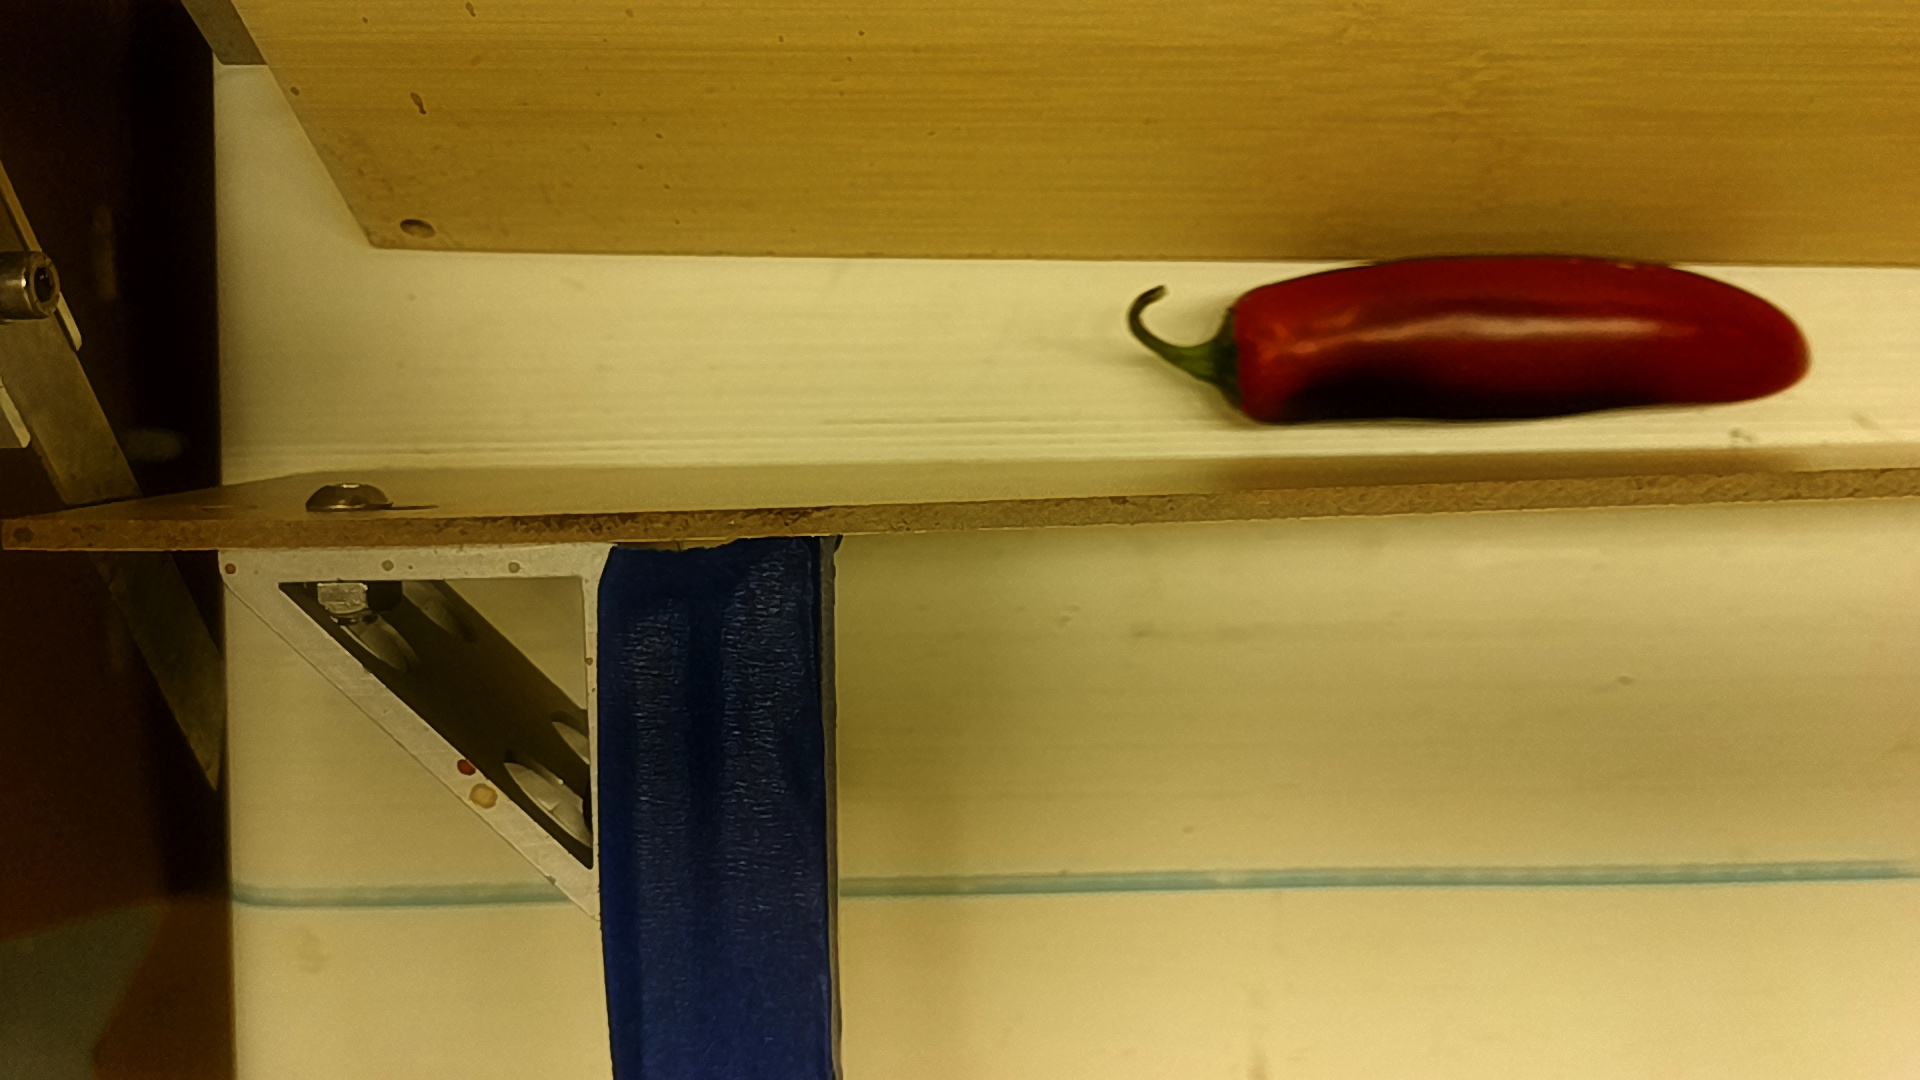Cut Point: (1207, 277, 1274, 431)
